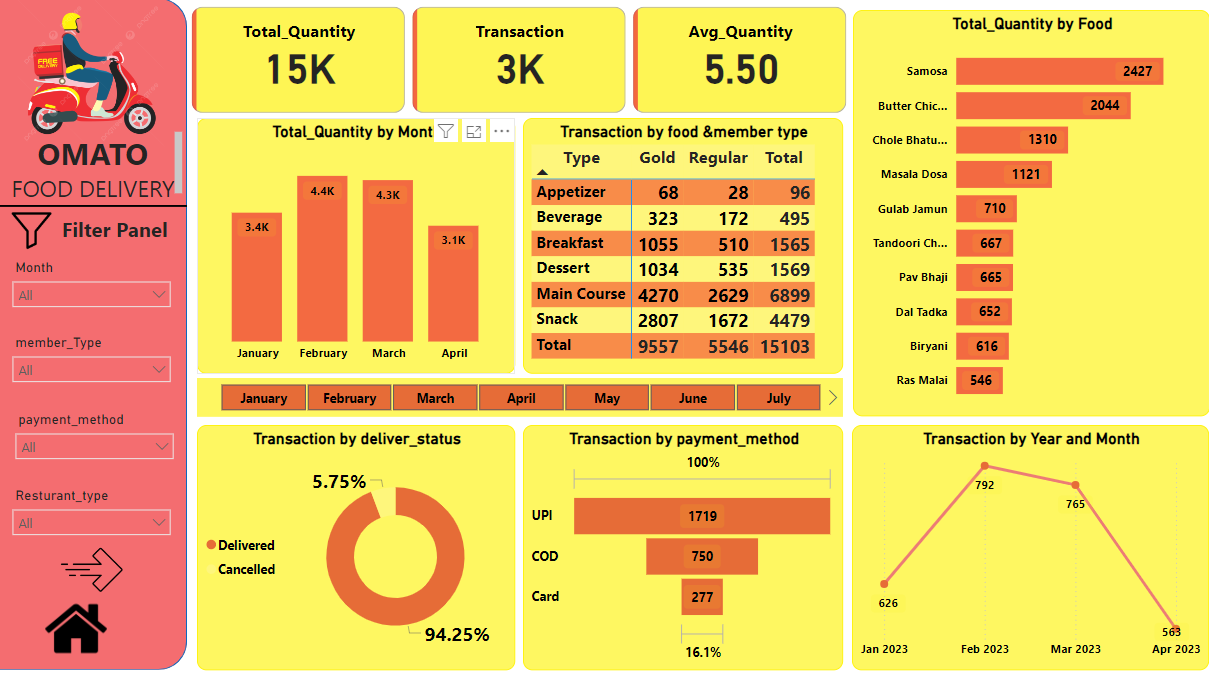

The page's visual inventory and layout, read from the dashboard file:
{"tool":"powerbi","page":{"name":"Page 1","canvas":[1280,720],"ordinal":0},"visuals":[{"type":"shape","box":[0,6.3,200.6,709.4],"z":0},{"type":"image","box":[0,0,200.5,172],"z":1000},{"type":"textbox","box":[9.1,142.4,191.4,79.7],"z":2000},{"type":"shape","box":[0,211.9,200.5,27.3],"z":3000},{"type":"cardVisual","fields":{"Data":["Sales Data.Total_Quantity","Sales Data.Transaction","Sales Data.Avg_Quantity"]},"box":[200.6,10.6,703.1,122.5],"z":4000},{"type":"clusteredColumnChart","fields":{"Y":["Sales Data.Total_Quantity"],"Category":["Sales Data.orderDate.Variation.Date Hierarchy.Month"]},"box":[210.8,133.3,336.1,270],"z":5000},{"type":"pivotTable","title":"Transaction by food &member type","fields":{"Rows":["Food_Details.Type"],"Columns":["Customer Details.member_Type"],"Values":["Sales Data.Total_Quantity"]},"box":[554.8,133.3,338.4,270],"z":6000},{"type":"donutChart","fields":{"Category":["Sales Data.deliver_status"],"Y":["Sales Data.Transaction"]},"box":[210.8,456.8,336.1,258.6],"z":7000},{"type":"funnel","fields":{"Category":["Sales Data.payment_method"],"Y":["Sales Data.Transaction"]},"box":[554.8,456.8,338.4,258.6],"z":8000},{"type":"clusteredBarChart","fields":{"Category":["Food_Details.Food"],"Y":["Sales Data.Total_Quantity"]},"box":[903.4,19.4,377.1,429.5],"z":9000},{"type":"lineChart","fields":{"Y":["Sales Data.Transaction"],"Category":["Sales Data.orderDate.Variation.Date Hierarchy.Year","Sales Data.orderDate.Variation.Date Hierarchy.Month"]},"box":[903,457,377,259],"z":10000},{"type":"slicer","fields":{"Values":["Sales Data.orderDate.Variation.Date Hierarchy.Month"]},"box":[6.8,278,186.8,71.8],"z":11000},{"type":"slicer","fields":{"Values":["Customer Details.member_Type"]},"box":[6.8,356.6,186.8,71.8],"z":12000},{"type":"slicer","fields":{"Values":["Sales Data.payment_method"]},"box":[9.1,438.6,186.8,61.5],"z":13000},{"type":"slicer","fields":{"Values":["Resturant_Details.Resturant_type"]},"box":[6.8,518.4,186.8,60.4],"z":14000},{"type":"slicer","fields":{"Values":["Sales Data.orderDate.Variation.Date Hierarchy.Month"]},"box":[210.8,407.8,682.4,41],"z":15000},{"type":"image","box":[9.1,225.6,54.7,52.4],"z":16000},{"type":"textbox","box":[63.8,230.1,147,42.2],"z":17000},{"type":"image","box":[36.5,634.6,92.3,75.2],"z":18000},{"type":"image","box":[58.1,567.3,84.3,85.4],"z":19000}]}

Visuals, with their boxes in screenshot pixels (x1, y1, x2, y2), scaled from the page's 1280x720 canvas onto the 1209x674 screenshot:
shape: <bbox>0, 6, 189, 670</bbox>
image: <bbox>0, 0, 189, 161</bbox>
textbox: <bbox>9, 133, 189, 208</bbox>
shape: <bbox>0, 198, 189, 224</bbox>
cardVisual - Sales Data.Total_Quantity x Sales Data.Transaction: <bbox>189, 10, 854, 125</bbox>
clusteredColumnChart - Sales Data.Total_Quantity x Sales Data.orderDate.Variation.Date Hierarchy.Month: <bbox>199, 125, 517, 378</bbox>
"Transaction by food &member type" pivotTable: <bbox>524, 125, 844, 378</bbox>
donutChart - Sales Data.deliver_status x Sales Data.Transaction: <bbox>199, 428, 517, 670</bbox>
funnel - Sales Data.payment_method x Sales Data.Transaction: <bbox>524, 428, 844, 670</bbox>
clusteredBarChart - Food_Details.Food x Sales Data.Total_Quantity: <bbox>853, 18, 1208, 420</bbox>
lineChart - Sales Data.Transaction x Sales Data.orderDate.Variation.Date Hierarchy.Year: <bbox>853, 428, 1208, 670</bbox>
slicer - Sales Data.orderDate.Variation.Date Hierarchy.Month: <bbox>6, 260, 183, 327</bbox>
slicer - Customer Details.member_Type: <bbox>6, 334, 183, 401</bbox>
slicer - Sales Data.payment_method: <bbox>9, 411, 185, 468</bbox>
slicer - Resturant_Details.Resturant_type: <bbox>6, 485, 183, 542</bbox>
slicer - Sales Data.orderDate.Variation.Date Hierarchy.Month: <bbox>199, 382, 844, 420</bbox>
image: <bbox>9, 211, 60, 260</bbox>
textbox: <bbox>60, 215, 199, 255</bbox>
image: <bbox>34, 594, 122, 664</bbox>
image: <bbox>55, 531, 135, 611</bbox>
